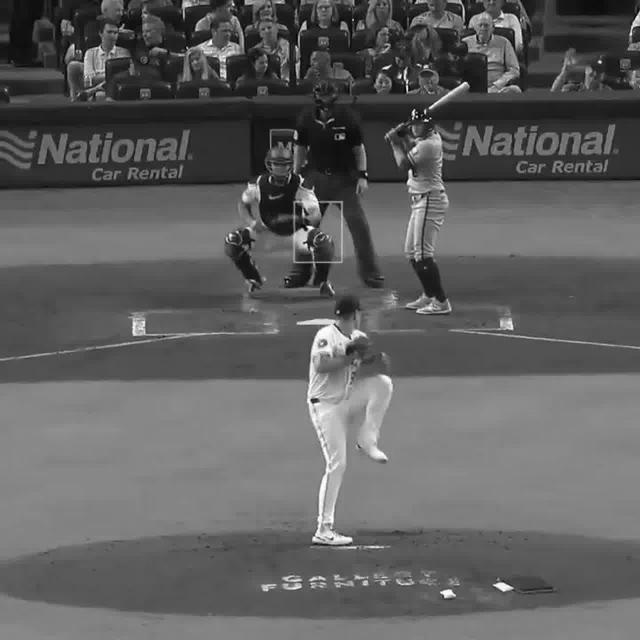base: (296, 317, 339, 329)
baseball_glove: (344, 336, 373, 365), (270, 210, 303, 228)
bat: (386, 77, 475, 144)
shoe: (353, 442, 390, 462), (313, 532, 353, 544), (417, 303, 452, 316), (243, 278, 266, 296), (405, 295, 431, 309), (322, 282, 337, 300)
